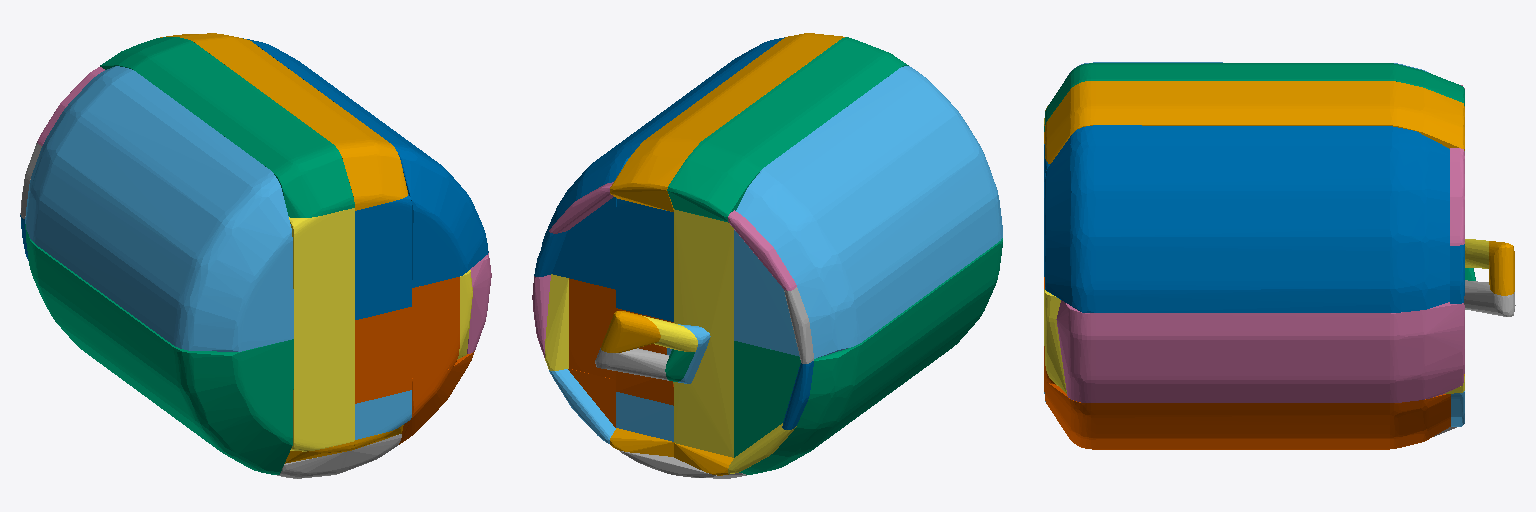
robot.urdf — root:
<robot name="root">
  <link name="link_convex_piece_028.obj">
    <inertial>
      <origin xyz="0 0 0" rpy="0 0 0"/>
    </inertial>
    <visual>
      <origin xyz="0 0 0" rpy="0 0 0"/>
      <geometry>
        <mesh filename="meshes/convex_piece_028.obj" scale="1.0 1.0 1.0"/>
      </geometry>
    </visual>
    <collision>
      <origin xyz="0 0 0" rpy="0 0 0"/>
      <geometry>
        <mesh filename="meshes/convex_piece_028.obj" scale="1.0 1.0 1.0"/>
      </geometry>
    </collision>
  </link>
  <link name="link_convex_piece_018.obj">
    <inertial>
      <origin xyz="0 0 0" rpy="0 0 0"/>
    </inertial>
    <visual>
      <origin xyz="0 0 0" rpy="0 0 0"/>
      <geometry>
        <mesh filename="meshes/convex_piece_018.obj" scale="1.0 1.0 1.0"/>
      </geometry>
    </visual>
    <collision>
      <origin xyz="0 0 0" rpy="0 0 0"/>
      <geometry>
        <mesh filename="meshes/convex_piece_018.obj" scale="1.0 1.0 1.0"/>
      </geometry>
    </collision>
  </link>
  <joint name="link_convex_piece_018.obj_joint" type="fixed">
    <origin xyz="0 0 0" rpy="0 0 0"/>
    <parent link="link_convex_piece_028.obj"/>
    <child link="link_convex_piece_018.obj"/>
  </joint>
  <link name="link_convex_piece_026.obj">
    <inertial>
      <origin xyz="0 0 0" rpy="0 0 0"/>
    </inertial>
    <visual>
      <origin xyz="0 0 0" rpy="0 0 0"/>
      <geometry>
        <mesh filename="meshes/convex_piece_026.obj" scale="1.0 1.0 1.0"/>
      </geometry>
    </visual>
    <collision>
      <origin xyz="0 0 0" rpy="0 0 0"/>
      <geometry>
        <mesh filename="meshes/convex_piece_026.obj" scale="1.0 1.0 1.0"/>
      </geometry>
    </collision>
  </link>
  <joint name="link_convex_piece_026.obj_joint" type="fixed">
    <origin xyz="0 0 0" rpy="0 0 0"/>
    <parent link="link_convex_piece_018.obj"/>
    <child link="link_convex_piece_026.obj"/>
  </joint>
  <link name="link_convex_piece_021.obj">
    <inertial>
      <origin xyz="0 0 0" rpy="0 0 0"/>
    </inertial>
    <visual>
      <origin xyz="0 0 0" rpy="0 0 0"/>
      <geometry>
        <mesh filename="meshes/convex_piece_021.obj" scale="1.0 1.0 1.0"/>
      </geometry>
    </visual>
    <collision>
      <origin xyz="0 0 0" rpy="0 0 0"/>
      <geometry>
        <mesh filename="meshes/convex_piece_021.obj" scale="1.0 1.0 1.0"/>
      </geometry>
    </collision>
  </link>
  <joint name="link_convex_piece_021.obj_joint" type="fixed">
    <origin xyz="0 0 0" rpy="0 0 0"/>
    <parent link="link_convex_piece_026.obj"/>
    <child link="link_convex_piece_021.obj"/>
  </joint>
  <link name="link_convex_piece_012.obj">
    <inertial>
      <origin xyz="0 0 0" rpy="0 0 0"/>
    </inertial>
    <visual>
      <origin xyz="0 0 0" rpy="0 0 0"/>
      <geometry>
        <mesh filename="meshes/convex_piece_012.obj" scale="1.0 1.0 1.0"/>
      </geometry>
    </visual>
    <collision>
      <origin xyz="0 0 0" rpy="0 0 0"/>
      <geometry>
        <mesh filename="meshes/convex_piece_012.obj" scale="1.0 1.0 1.0"/>
      </geometry>
    </collision>
  </link>
  <joint name="link_convex_piece_012.obj_joint" type="fixed">
    <origin xyz="0 0 0" rpy="0 0 0"/>
    <parent link="link_convex_piece_021.obj"/>
    <child link="link_convex_piece_012.obj"/>
  </joint>
  <link name="link_convex_piece_019.obj">
    <inertial>
      <origin xyz="0 0 0" rpy="0 0 0"/>
    </inertial>
    <visual>
      <origin xyz="0 0 0" rpy="0 0 0"/>
      <geometry>
        <mesh filename="meshes/convex_piece_019.obj" scale="1.0 1.0 1.0"/>
      </geometry>
    </visual>
    <collision>
      <origin xyz="0 0 0" rpy="0 0 0"/>
      <geometry>
        <mesh filename="meshes/convex_piece_019.obj" scale="1.0 1.0 1.0"/>
      </geometry>
    </collision>
  </link>
  <joint name="link_convex_piece_019.obj_joint" type="fixed">
    <origin xyz="0 0 0" rpy="0 0 0"/>
    <parent link="link_convex_piece_012.obj"/>
    <child link="link_convex_piece_019.obj"/>
  </joint>
  <link name="link_convex_piece_014.obj">
    <inertial>
      <origin xyz="0 0 0" rpy="0 0 0"/>
    </inertial>
    <visual>
      <origin xyz="0 0 0" rpy="0 0 0"/>
      <geometry>
        <mesh filename="meshes/convex_piece_014.obj" scale="1.0 1.0 1.0"/>
      </geometry>
    </visual>
    <collision>
      <origin xyz="0 0 0" rpy="0 0 0"/>
      <geometry>
        <mesh filename="meshes/convex_piece_014.obj" scale="1.0 1.0 1.0"/>
      </geometry>
    </collision>
  </link>
  <joint name="link_convex_piece_014.obj_joint" type="fixed">
    <origin xyz="0 0 0" rpy="0 0 0"/>
    <parent link="link_convex_piece_019.obj"/>
    <child link="link_convex_piece_014.obj"/>
  </joint>
  <link name="link_convex_piece_020.obj">
    <inertial>
      <origin xyz="0 0 0" rpy="0 0 0"/>
    </inertial>
    <visual>
      <origin xyz="0 0 0" rpy="0 0 0"/>
      <geometry>
        <mesh filename="meshes/convex_piece_020.obj" scale="1.0 1.0 1.0"/>
      </geometry>
    </visual>
    <collision>
      <origin xyz="0 0 0" rpy="0 0 0"/>
      <geometry>
        <mesh filename="meshes/convex_piece_020.obj" scale="1.0 1.0 1.0"/>
      </geometry>
    </collision>
  </link>
  <joint name="link_convex_piece_020.obj_joint" type="fixed">
    <origin xyz="0 0 0" rpy="0 0 0"/>
    <parent link="link_convex_piece_014.obj"/>
    <child link="link_convex_piece_020.obj"/>
  </joint>
  <link name="link_convex_piece_004.obj">
    <inertial>
      <origin xyz="0 0 0" rpy="0 0 0"/>
    </inertial>
    <visual>
      <origin xyz="0 0 0" rpy="0 0 0"/>
      <geometry>
        <mesh filename="meshes/convex_piece_004.obj" scale="1.0 1.0 1.0"/>
      </geometry>
    </visual>
    <collision>
      <origin xyz="0 0 0" rpy="0 0 0"/>
      <geometry>
        <mesh filename="meshes/convex_piece_004.obj" scale="1.0 1.0 1.0"/>
      </geometry>
    </collision>
  </link>
  <joint name="link_convex_piece_004.obj_joint" type="fixed">
    <origin xyz="0 0 0" rpy="0 0 0"/>
    <parent link="link_convex_piece_020.obj"/>
    <child link="link_convex_piece_004.obj"/>
  </joint>
  <link name="link_convex_piece_027.obj">
    <inertial>
      <origin xyz="0 0 0" rpy="0 0 0"/>
    </inertial>
    <visual>
      <origin xyz="0 0 0" rpy="0 0 0"/>
      <geometry>
        <mesh filename="meshes/convex_piece_027.obj" scale="1.0 1.0 1.0"/>
      </geometry>
    </visual>
    <collision>
      <origin xyz="0 0 0" rpy="0 0 0"/>
      <geometry>
        <mesh filename="meshes/convex_piece_027.obj" scale="1.0 1.0 1.0"/>
      </geometry>
    </collision>
  </link>
  <joint name="link_convex_piece_027.obj_joint" type="fixed">
    <origin xyz="0 0 0" rpy="0 0 0"/>
    <parent link="link_convex_piece_004.obj"/>
    <child link="link_convex_piece_027.obj"/>
  </joint>
  <link name="link_convex_piece_001.obj">
    <inertial>
      <origin xyz="0 0 0" rpy="0 0 0"/>
    </inertial>
    <visual>
      <origin xyz="0 0 0" rpy="0 0 0"/>
      <geometry>
        <mesh filename="meshes/convex_piece_001.obj" scale="1.0 1.0 1.0"/>
      </geometry>
    </visual>
    <collision>
      <origin xyz="0 0 0" rpy="0 0 0"/>
      <geometry>
        <mesh filename="meshes/convex_piece_001.obj" scale="1.0 1.0 1.0"/>
      </geometry>
    </collision>
  </link>
  <joint name="link_convex_piece_001.obj_joint" type="fixed">
    <origin xyz="0 0 0" rpy="0 0 0"/>
    <parent link="link_convex_piece_027.obj"/>
    <child link="link_convex_piece_001.obj"/>
  </joint>
  <link name="link_convex_piece_015.obj">
    <inertial>
      <origin xyz="0 0 0" rpy="0 0 0"/>
    </inertial>
    <visual>
      <origin xyz="0 0 0" rpy="0 0 0"/>
      <geometry>
        <mesh filename="meshes/convex_piece_015.obj" scale="1.0 1.0 1.0"/>
      </geometry>
    </visual>
    <collision>
      <origin xyz="0 0 0" rpy="0 0 0"/>
      <geometry>
        <mesh filename="meshes/convex_piece_015.obj" scale="1.0 1.0 1.0"/>
      </geometry>
    </collision>
  </link>
  <joint name="link_convex_piece_015.obj_joint" type="fixed">
    <origin xyz="0 0 0" rpy="0 0 0"/>
    <parent link="link_convex_piece_001.obj"/>
    <child link="link_convex_piece_015.obj"/>
  </joint>
  <link name="link_convex_piece_005.obj">
    <inertial>
      <origin xyz="0 0 0" rpy="0 0 0"/>
    </inertial>
    <visual>
      <origin xyz="0 0 0" rpy="0 0 0"/>
      <geometry>
        <mesh filename="meshes/convex_piece_005.obj" scale="1.0 1.0 1.0"/>
      </geometry>
    </visual>
    <collision>
      <origin xyz="0 0 0" rpy="0 0 0"/>
      <geometry>
        <mesh filename="meshes/convex_piece_005.obj" scale="1.0 1.0 1.0"/>
      </geometry>
    </collision>
  </link>
  <joint name="link_convex_piece_005.obj_joint" type="fixed">
    <origin xyz="0 0 0" rpy="0 0 0"/>
    <parent link="link_convex_piece_015.obj"/>
    <child link="link_convex_piece_005.obj"/>
  </joint>
  <link name="link_convex_piece_024.obj">
    <inertial>
      <origin xyz="0 0 0" rpy="0 0 0"/>
    </inertial>
    <visual>
      <origin xyz="0 0 0" rpy="0 0 0"/>
      <geometry>
        <mesh filename="meshes/convex_piece_024.obj" scale="1.0 1.0 1.0"/>
      </geometry>
    </visual>
    <collision>
      <origin xyz="0 0 0" rpy="0 0 0"/>
      <geometry>
        <mesh filename="meshes/convex_piece_024.obj" scale="1.0 1.0 1.0"/>
      </geometry>
    </collision>
  </link>
  <joint name="link_convex_piece_024.obj_joint" type="fixed">
    <origin xyz="0 0 0" rpy="0 0 0"/>
    <parent link="link_convex_piece_005.obj"/>
    <child link="link_convex_piece_024.obj"/>
  </joint>
  <link name="link_convex_piece_013.obj">
    <inertial>
      <origin xyz="0 0 0" rpy="0 0 0"/>
    </inertial>
    <visual>
      <origin xyz="0 0 0" rpy="0 0 0"/>
      <geometry>
        <mesh filename="meshes/convex_piece_013.obj" scale="1.0 1.0 1.0"/>
      </geometry>
    </visual>
    <collision>
      <origin xyz="0 0 0" rpy="0 0 0"/>
      <geometry>
        <mesh filename="meshes/convex_piece_013.obj" scale="1.0 1.0 1.0"/>
      </geometry>
    </collision>
  </link>
  <joint name="link_convex_piece_013.obj_joint" type="fixed">
    <origin xyz="0 0 0" rpy="0 0 0"/>
    <parent link="link_convex_piece_024.obj"/>
    <child link="link_convex_piece_013.obj"/>
  </joint>
  <link name="link_convex_piece_002.obj">
    <inertial>
      <origin xyz="0 0 0" rpy="0 0 0"/>
    </inertial>
    <visual>
      <origin xyz="0 0 0" rpy="0 0 0"/>
      <geometry>
        <mesh filename="meshes/convex_piece_002.obj" scale="1.0 1.0 1.0"/>
      </geometry>
    </visual>
    <collision>
      <origin xyz="0 0 0" rpy="0 0 0"/>
      <geometry>
        <mesh filename="meshes/convex_piece_002.obj" scale="1.0 1.0 1.0"/>
      </geometry>
    </collision>
  </link>
  <joint name="link_convex_piece_002.obj_joint" type="fixed">
    <origin xyz="0 0 0" rpy="0 0 0"/>
    <parent link="link_convex_piece_013.obj"/>
    <child link="link_convex_piece_002.obj"/>
  </joint>
  <link name="link_convex_piece_025.obj">
    <inertial>
      <origin xyz="0 0 0" rpy="0 0 0"/>
    </inertial>
    <visual>
      <origin xyz="0 0 0" rpy="0 0 0"/>
      <geometry>
        <mesh filename="meshes/convex_piece_025.obj" scale="1.0 1.0 1.0"/>
      </geometry>
    </visual>
    <collision>
      <origin xyz="0 0 0" rpy="0 0 0"/>
      <geometry>
        <mesh filename="meshes/convex_piece_025.obj" scale="1.0 1.0 1.0"/>
      </geometry>
    </collision>
  </link>
  <joint name="link_convex_piece_025.obj_joint" type="fixed">
    <origin xyz="0 0 0" rpy="0 0 0"/>
    <parent link="link_convex_piece_002.obj"/>
    <child link="link_convex_piece_025.obj"/>
  </joint>
  <link name="link_convex_piece_010.obj">
    <inertial>
      <origin xyz="0 0 0" rpy="0 0 0"/>
    </inertial>
    <visual>
      <origin xyz="0 0 0" rpy="0 0 0"/>
      <geometry>
        <mesh filename="meshes/convex_piece_010.obj" scale="1.0 1.0 1.0"/>
      </geometry>
    </visual>
    <collision>
      <origin xyz="0 0 0" rpy="0 0 0"/>
      <geometry>
        <mesh filename="meshes/convex_piece_010.obj" scale="1.0 1.0 1.0"/>
      </geometry>
    </collision>
  </link>
  <joint name="link_convex_piece_010.obj_joint" type="fixed">
    <origin xyz="0 0 0" rpy="0 0 0"/>
    <parent link="link_convex_piece_025.obj"/>
    <child link="link_convex_piece_010.obj"/>
  </joint>
  <link name="link_convex_piece_006.obj">
    <inertial>
      <origin xyz="0 0 0" rpy="0 0 0"/>
    </inertial>
    <visual>
      <origin xyz="0 0 0" rpy="0 0 0"/>
      <geometry>
        <mesh filename="meshes/convex_piece_006.obj" scale="1.0 1.0 1.0"/>
      </geometry>
    </visual>
    <collision>
      <origin xyz="0 0 0" rpy="0 0 0"/>
      <geometry>
        <mesh filename="meshes/convex_piece_006.obj" scale="1.0 1.0 1.0"/>
      </geometry>
    </collision>
  </link>
  <joint name="link_convex_piece_006.obj_joint" type="fixed">
    <origin xyz="0 0 0" rpy="0 0 0"/>
    <parent link="link_convex_piece_010.obj"/>
    <child link="link_convex_piece_006.obj"/>
  </joint>
  <link name="link_convex_piece_003.obj">
    <inertial>
      <origin xyz="0 0 0" rpy="0 0 0"/>
    </inertial>
    <visual>
      <origin xyz="0 0 0" rpy="0 0 0"/>
      <geometry>
        <mesh filename="meshes/convex_piece_003.obj" scale="1.0 1.0 1.0"/>
      </geometry>
    </visual>
    <collision>
      <origin xyz="0 0 0" rpy="0 0 0"/>
      <geometry>
        <mesh filename="meshes/convex_piece_003.obj" scale="1.0 1.0 1.0"/>
      </geometry>
    </collision>
  </link>
  <joint name="link_convex_piece_003.obj_joint" type="fixed">
    <origin xyz="0 0 0" rpy="0 0 0"/>
    <parent link="link_convex_piece_006.obj"/>
    <child link="link_convex_piece_003.obj"/>
  </joint>
  <link name="link_convex_piece_008.obj">
    <inertial>
      <origin xyz="0 0 0" rpy="0 0 0"/>
    </inertial>
    <visual>
      <origin xyz="0 0 0" rpy="0 0 0"/>
      <geometry>
        <mesh filename="meshes/convex_piece_008.obj" scale="1.0 1.0 1.0"/>
      </geometry>
    </visual>
    <collision>
      <origin xyz="0 0 0" rpy="0 0 0"/>
      <geometry>
        <mesh filename="meshes/convex_piece_008.obj" scale="1.0 1.0 1.0"/>
      </geometry>
    </collision>
  </link>
  <joint name="link_convex_piece_008.obj_joint" type="fixed">
    <origin xyz="0 0 0" rpy="0 0 0"/>
    <parent link="link_convex_piece_003.obj"/>
    <child link="link_convex_piece_008.obj"/>
  </joint>
  <link name="link_convex_piece_023.obj">
    <inertial>
      <origin xyz="0 0 0" rpy="0 0 0"/>
    </inertial>
    <visual>
      <origin xyz="0 0 0" rpy="0 0 0"/>
      <geometry>
        <mesh filename="meshes/convex_piece_023.obj" scale="1.0 1.0 1.0"/>
      </geometry>
    </visual>
    <collision>
      <origin xyz="0 0 0" rpy="0 0 0"/>
      <geometry>
        <mesh filename="meshes/convex_piece_023.obj" scale="1.0 1.0 1.0"/>
      </geometry>
    </collision>
  </link>
  <joint name="link_convex_piece_023.obj_joint" type="fixed">
    <origin xyz="0 0 0" rpy="0 0 0"/>
    <parent link="link_convex_piece_008.obj"/>
    <child link="link_convex_piece_023.obj"/>
  </joint>
  <link name="link_convex_piece_022.obj">
    <inertial>
      <origin xyz="0 0 0" rpy="0 0 0"/>
    </inertial>
    <visual>
      <origin xyz="0 0 0" rpy="0 0 0"/>
      <geometry>
        <mesh filename="meshes/convex_piece_022.obj" scale="1.0 1.0 1.0"/>
      </geometry>
    </visual>
    <collision>
      <origin xyz="0 0 0" rpy="0 0 0"/>
      <geometry>
        <mesh filename="meshes/convex_piece_022.obj" scale="1.0 1.0 1.0"/>
      </geometry>
    </collision>
  </link>
  <joint name="link_convex_piece_022.obj_joint" type="fixed">
    <origin xyz="0 0 0" rpy="0 0 0"/>
    <parent link="link_convex_piece_023.obj"/>
    <child link="link_convex_piece_022.obj"/>
  </joint>
  <link name="link_convex_piece_011.obj">
    <inertial>
      <origin xyz="0 0 0" rpy="0 0 0"/>
    </inertial>
    <visual>
      <origin xyz="0 0 0" rpy="0 0 0"/>
      <geometry>
        <mesh filename="meshes/convex_piece_011.obj" scale="1.0 1.0 1.0"/>
      </geometry>
    </visual>
    <collision>
      <origin xyz="0 0 0" rpy="0 0 0"/>
      <geometry>
        <mesh filename="meshes/convex_piece_011.obj" scale="1.0 1.0 1.0"/>
      </geometry>
    </collision>
  </link>
  <joint name="link_convex_piece_011.obj_joint" type="fixed">
    <origin xyz="0 0 0" rpy="0 0 0"/>
    <parent link="link_convex_piece_022.obj"/>
    <child link="link_convex_piece_011.obj"/>
  </joint>
  <link name="link_convex_piece_000.obj">
    <inertial>
      <origin xyz="0 0 0" rpy="0 0 0"/>
    </inertial>
    <visual>
      <origin xyz="0 0 0" rpy="0 0 0"/>
      <geometry>
        <mesh filename="meshes/convex_piece_000.obj" scale="1.0 1.0 1.0"/>
      </geometry>
    </visual>
    <collision>
      <origin xyz="0 0 0" rpy="0 0 0"/>
      <geometry>
        <mesh filename="meshes/convex_piece_000.obj" scale="1.0 1.0 1.0"/>
      </geometry>
    </collision>
  </link>
  <joint name="link_convex_piece_000.obj_joint" type="fixed">
    <origin xyz="0 0 0" rpy="0 0 0"/>
    <parent link="link_convex_piece_011.obj"/>
    <child link="link_convex_piece_000.obj"/>
  </joint>
  <link name="link_convex_piece_016.obj">
    <inertial>
      <origin xyz="0 0 0" rpy="0 0 0"/>
    </inertial>
    <visual>
      <origin xyz="0 0 0" rpy="0 0 0"/>
      <geometry>
        <mesh filename="meshes/convex_piece_016.obj" scale="1.0 1.0 1.0"/>
      </geometry>
    </visual>
    <collision>
      <origin xyz="0 0 0" rpy="0 0 0"/>
      <geometry>
        <mesh filename="meshes/convex_piece_016.obj" scale="1.0 1.0 1.0"/>
      </geometry>
    </collision>
  </link>
  <joint name="link_convex_piece_016.obj_joint" type="fixed">
    <origin xyz="0 0 0" rpy="0 0 0"/>
    <parent link="link_convex_piece_000.obj"/>
    <child link="link_convex_piece_016.obj"/>
  </joint>
  <link name="link_convex_piece_009.obj">
    <inertial>
      <origin xyz="0 0 0" rpy="0 0 0"/>
    </inertial>
    <visual>
      <origin xyz="0 0 0" rpy="0 0 0"/>
      <geometry>
        <mesh filename="meshes/convex_piece_009.obj" scale="1.0 1.0 1.0"/>
      </geometry>
    </visual>
    <collision>
      <origin xyz="0 0 0" rpy="0 0 0"/>
      <geometry>
        <mesh filename="meshes/convex_piece_009.obj" scale="1.0 1.0 1.0"/>
      </geometry>
    </collision>
  </link>
  <joint name="link_convex_piece_009.obj_joint" type="fixed">
    <origin xyz="0 0 0" rpy="0 0 0"/>
    <parent link="link_convex_piece_016.obj"/>
    <child link="link_convex_piece_009.obj"/>
  </joint>
  <link name="link_convex_piece_007.obj">
    <inertial>
      <origin xyz="0 0 0" rpy="0 0 0"/>
    </inertial>
    <visual>
      <origin xyz="0 0 0" rpy="0 0 0"/>
      <geometry>
        <mesh filename="meshes/convex_piece_007.obj" scale="1.0 1.0 1.0"/>
      </geometry>
    </visual>
    <collision>
      <origin xyz="0 0 0" rpy="0 0 0"/>
      <geometry>
        <mesh filename="meshes/convex_piece_007.obj" scale="1.0 1.0 1.0"/>
      </geometry>
    </collision>
  </link>
  <joint name="link_convex_piece_007.obj_joint" type="fixed">
    <origin xyz="0 0 0" rpy="0 0 0"/>
    <parent link="link_convex_piece_009.obj"/>
    <child link="link_convex_piece_007.obj"/>
  </joint>
  <link name="link_convex_piece_017.obj">
    <inertial>
      <origin xyz="0 0 0" rpy="0 0 0"/>
    </inertial>
    <visual>
      <origin xyz="0 0 0" rpy="0 0 0"/>
      <geometry>
        <mesh filename="meshes/convex_piece_017.obj" scale="1.0 1.0 1.0"/>
      </geometry>
    </visual>
    <collision>
      <origin xyz="0 0 0" rpy="0 0 0"/>
      <geometry>
        <mesh filename="meshes/convex_piece_017.obj" scale="1.0 1.0 1.0"/>
      </geometry>
    </collision>
  </link>
  <joint name="link_convex_piece_017.obj_joint" type="fixed">
    <origin xyz="0 0 0" rpy="0 0 0"/>
    <parent link="link_convex_piece_007.obj"/>
    <child link="link_convex_piece_017.obj"/>
  </joint>
</robot>

--- What the picture shows (computed from the rendered views, not written in the file) ---
The picture shows the robot from 3 angles, left to right: view 1: azimuth 30°, elevation 25°; view 2: azimuth 150°, elevation 25°; view 3: azimuth 270°, elevation 25°; orthographic projection.
Robot: root — 29 links, 28 joints (28 fixed); root link link_convex_piece_028.obj; default pose: all joints at 0.
Links seen in each view (by area): view 1: link_convex_piece_010.obj, link_convex_piece_009.obj, link_convex_piece_006.obj, link_convex_piece_007.obj, link_convex_piece_008.obj, link_convex_piece_004.obj, link_convex_piece_005.obj, link_convex_piece_019.obj, link_convex_piece_023.obj, link_convex_piece_024.obj, link_convex_piece_020.obj, link_convex_piece_027.obj (+4 smaller); view 2: link_convex_piece_010.obj, link_convex_piece_009.obj, link_convex_piece_006.obj, link_convex_piece_007.obj, link_convex_piece_004.obj, link_convex_piece_008.obj, link_convex_piece_005.obj, link_convex_piece_023.obj, link_convex_piece_027.obj, link_convex_piece_021.obj, link_convex_piece_000.obj, link_convex_piece_016.obj (+16 smaller); view 3: link_convex_piece_008.obj, link_convex_piece_022.obj, link_convex_piece_004.obj, link_convex_piece_024.obj, link_convex_piece_006.obj, link_convex_piece_021.obj, link_convex_piece_014.obj, link_convex_piece_000.obj, link_convex_piece_002.obj, link_convex_piece_012.obj, link_convex_piece_003.obj.
Link boxes in pixels (<box>): link_convex_piece_010.obj: <box>25,66,293,351</box>; link_convex_piece_009.obj: <box>25,224,293,474</box>; link_convex_piece_006.obj: <box>100,37,354,217</box>; link_convex_piece_007.obj: <box>289,208,354,451</box>; link_convex_piece_008.obj: <box>243,38,488,287</box>; link_convex_piece_004.obj: <box>160,33,407,210</box>; link_convex_piece_005.obj: <box>355,194,411,319</box>; link_convex_piece_019.obj: <box>355,307,411,403</box>; link_convex_piece_023.obj: <box>412,277,459,377</box>; link_convex_piece_024.obj: <box>399,351,474,444</box>; link_convex_piece_020.obj: <box>277,434,401,478</box>; link_convex_piece_027.obj: <box>355,390,411,439</box>; link_convex_piece_010.obj: <box>734,66,1002,358</box>; link_convex_piece_009.obj: <box>734,238,1002,474</box>; link_convex_piece_006.obj: <box>667,37,908,222</box>; link_convex_piece_007.obj: <box>673,209,733,457</box>; link_convex_piece_004.obj: <box>610,33,844,211</box>; link_convex_piece_008.obj: <box>541,37,784,289</box>; link_convex_piece_005.obj: <box>616,199,673,321</box>; link_convex_piece_023.obj: <box>569,278,615,379</box>; link_convex_piece_027.obj: <box>616,392,673,441</box>; link_convex_piece_021.obj: <box>545,274,568,370</box>; link_convex_piece_000.obj: <box>601,311,660,352</box>; link_convex_piece_016.obj: <box>549,369,615,443</box>; link_convex_piece_008.obj: <box>1044,125,1449,312</box>; link_convex_piece_022.obj: <box>1056,300,1464,402</box>; link_convex_piece_004.obj: <box>1044,81,1464,163</box>; link_convex_piece_024.obj: <box>1044,376,1450,449</box>; link_convex_piece_006.obj: <box>1044,63,1464,131</box>; link_convex_piece_021.obj: <box>1044,289,1464,393</box>; link_convex_piece_014.obj: <box>1450,148,1464,245</box>; link_convex_piece_000.obj: <box>1489,241,1514,295</box>; link_convex_piece_002.obj: <box>1464,280,1515,316</box>; link_convex_piece_012.obj: <box>1450,244,1464,303</box>; link_convex_piece_003.obj: <box>1465,239,1488,268</box>.
Bounding box of the posed robot: 1.09 × 1.32 × 1.09 m (x, y, z).
29 mesh visuals loaded from 29 distinct referenced files (29 OBJ).
